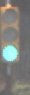Green: (1, 5, 27, 72)
